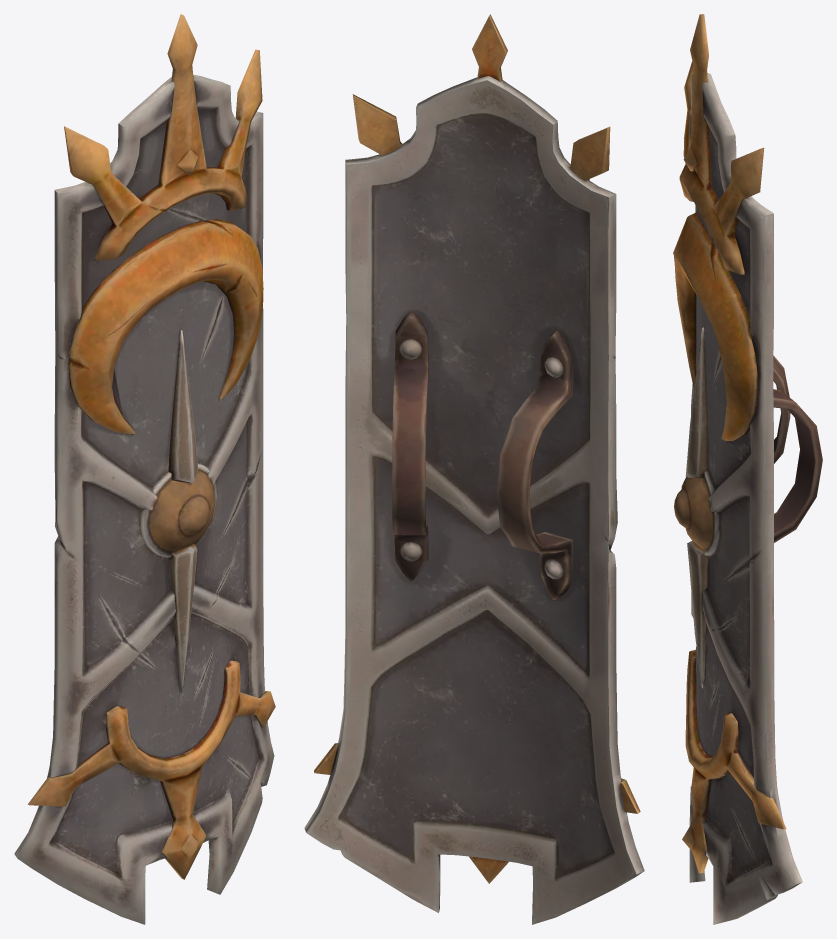
The picture shows the model from 3 angles, left to right: view 1: azimuth 30°, elevation 25°; view 2: azimuth 150°, elevation 25°; view 3: azimuth 270°, elevation 25°; orthographic projection.
Parts seen in each view (by area): view 1: SM_M_LRG_Beast_Thane_Shield_01_LOD0; view 2: SM_M_LRG_Beast_Thane_Shield_01_LOD0; view 3: SM_M_LRG_Beast_Thane_Shield_01_LOD0.
Boxes of the visible parts, left/top/right/bottom form: SM_M_LRG_Beast_Thane_Shield_01_LOD0: left=14, top=14, right=275, bottom=924; SM_M_LRG_Beast_Thane_Shield_01_LOD0: left=304, top=14, right=644, bottom=924; SM_M_LRG_Beast_Thane_Shield_01_LOD0: left=673, top=14, right=822, bottom=924.
Size of the model in its own units: 1.08 by 3.11 by 0.4749.
Materials: 1 (1 with a texture image).
